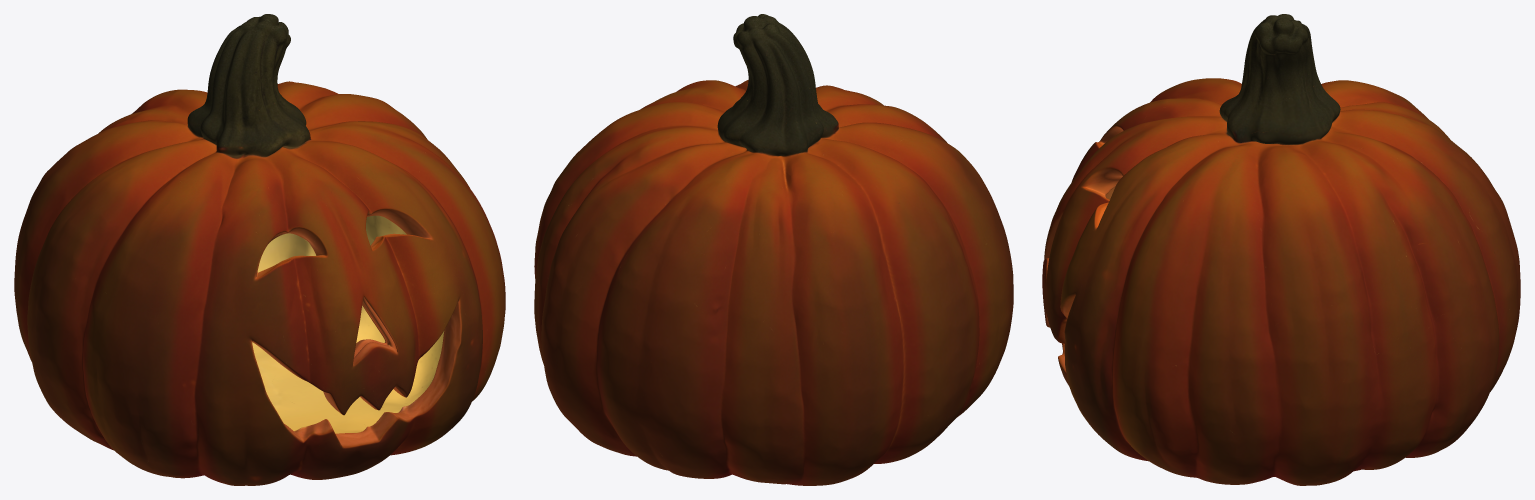
File: pumpkin-1.glb
The picture shows the model from 3 angles, left to right: view 1: azimuth 30°, elevation 25°; view 2: azimuth 150°, elevation 25°; view 3: azimuth 270°, elevation 25°; orthographic projection.
Bounding box in the file's own units: 1.9 × 1.79 × 1.9.
Materials: 1 (1 with a texture image).
